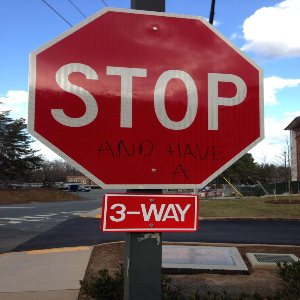STOP_SIGN: (27, 6, 264, 189)
